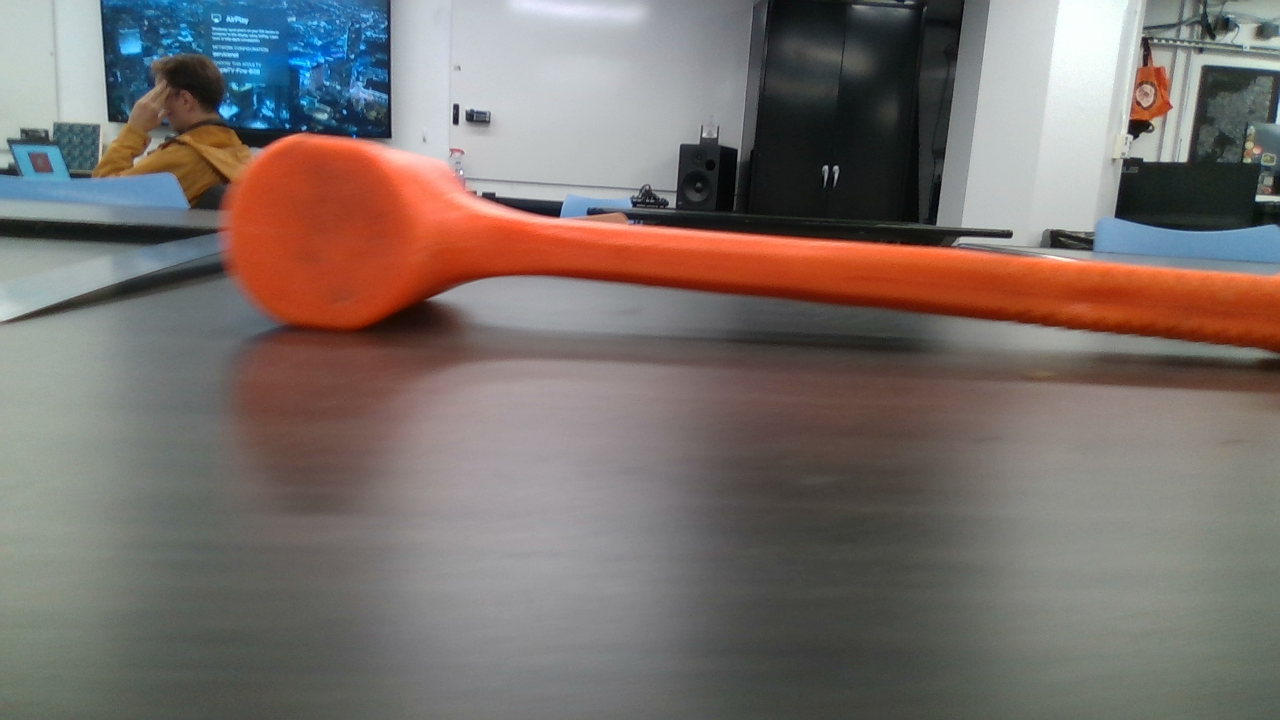Orange Hammer: (236, 134, 1268, 369)
